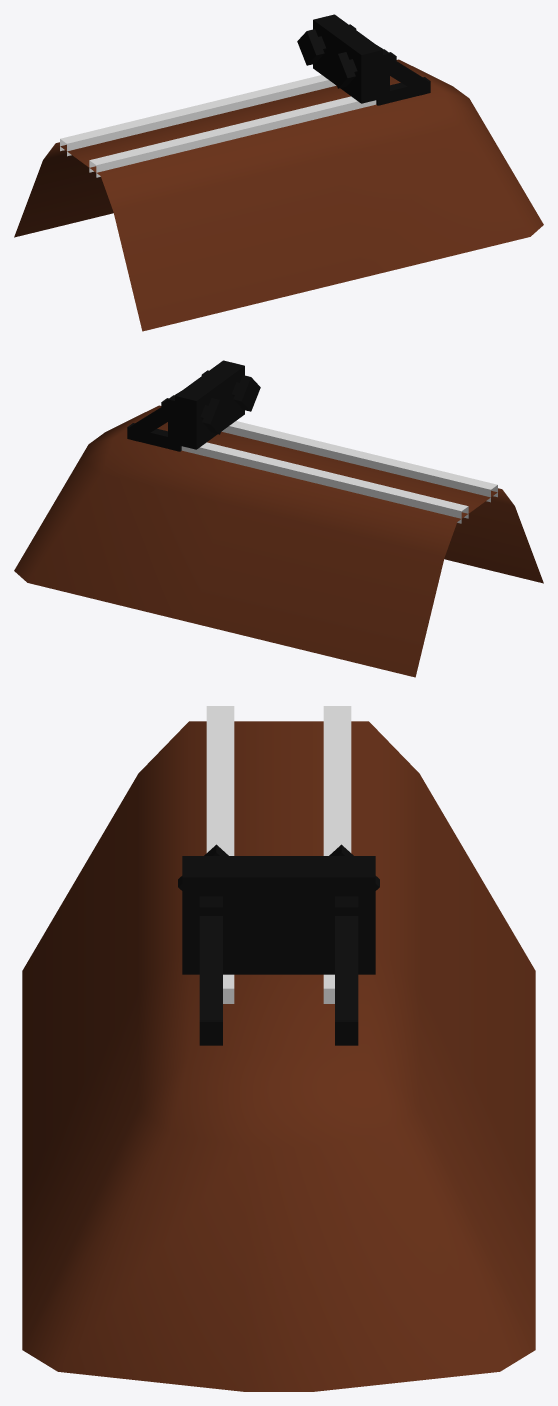
File: Buffer stop.fbx
3 views of the same model, one above another, from view 1: azimuth 30°, elevation 25°; view 2: azimuth 150°, elevation 25°; view 3: azimuth 270°, elevation 25° (orthographic). The views are drawn at different scales.
Visible parts, largest first — view 1: Track, Buffer stop; view 2: Track, Buffer stop; view 3: Buffer stop, Track.
Boxes of the visible parts, <box> form: Track: <box>14,84,364,331</box>; Buffer stop: <box>283,14,543,276</box>; Track: <box>193,430,543,677</box>; Buffer stop: <box>14,360,274,622</box>; Buffer stop: <box>22,844,535,1391</box>; Track: <box>22,706,535,1187</box>.
Size of the model in its own units: 1.94 by 0.7905 by 1.
